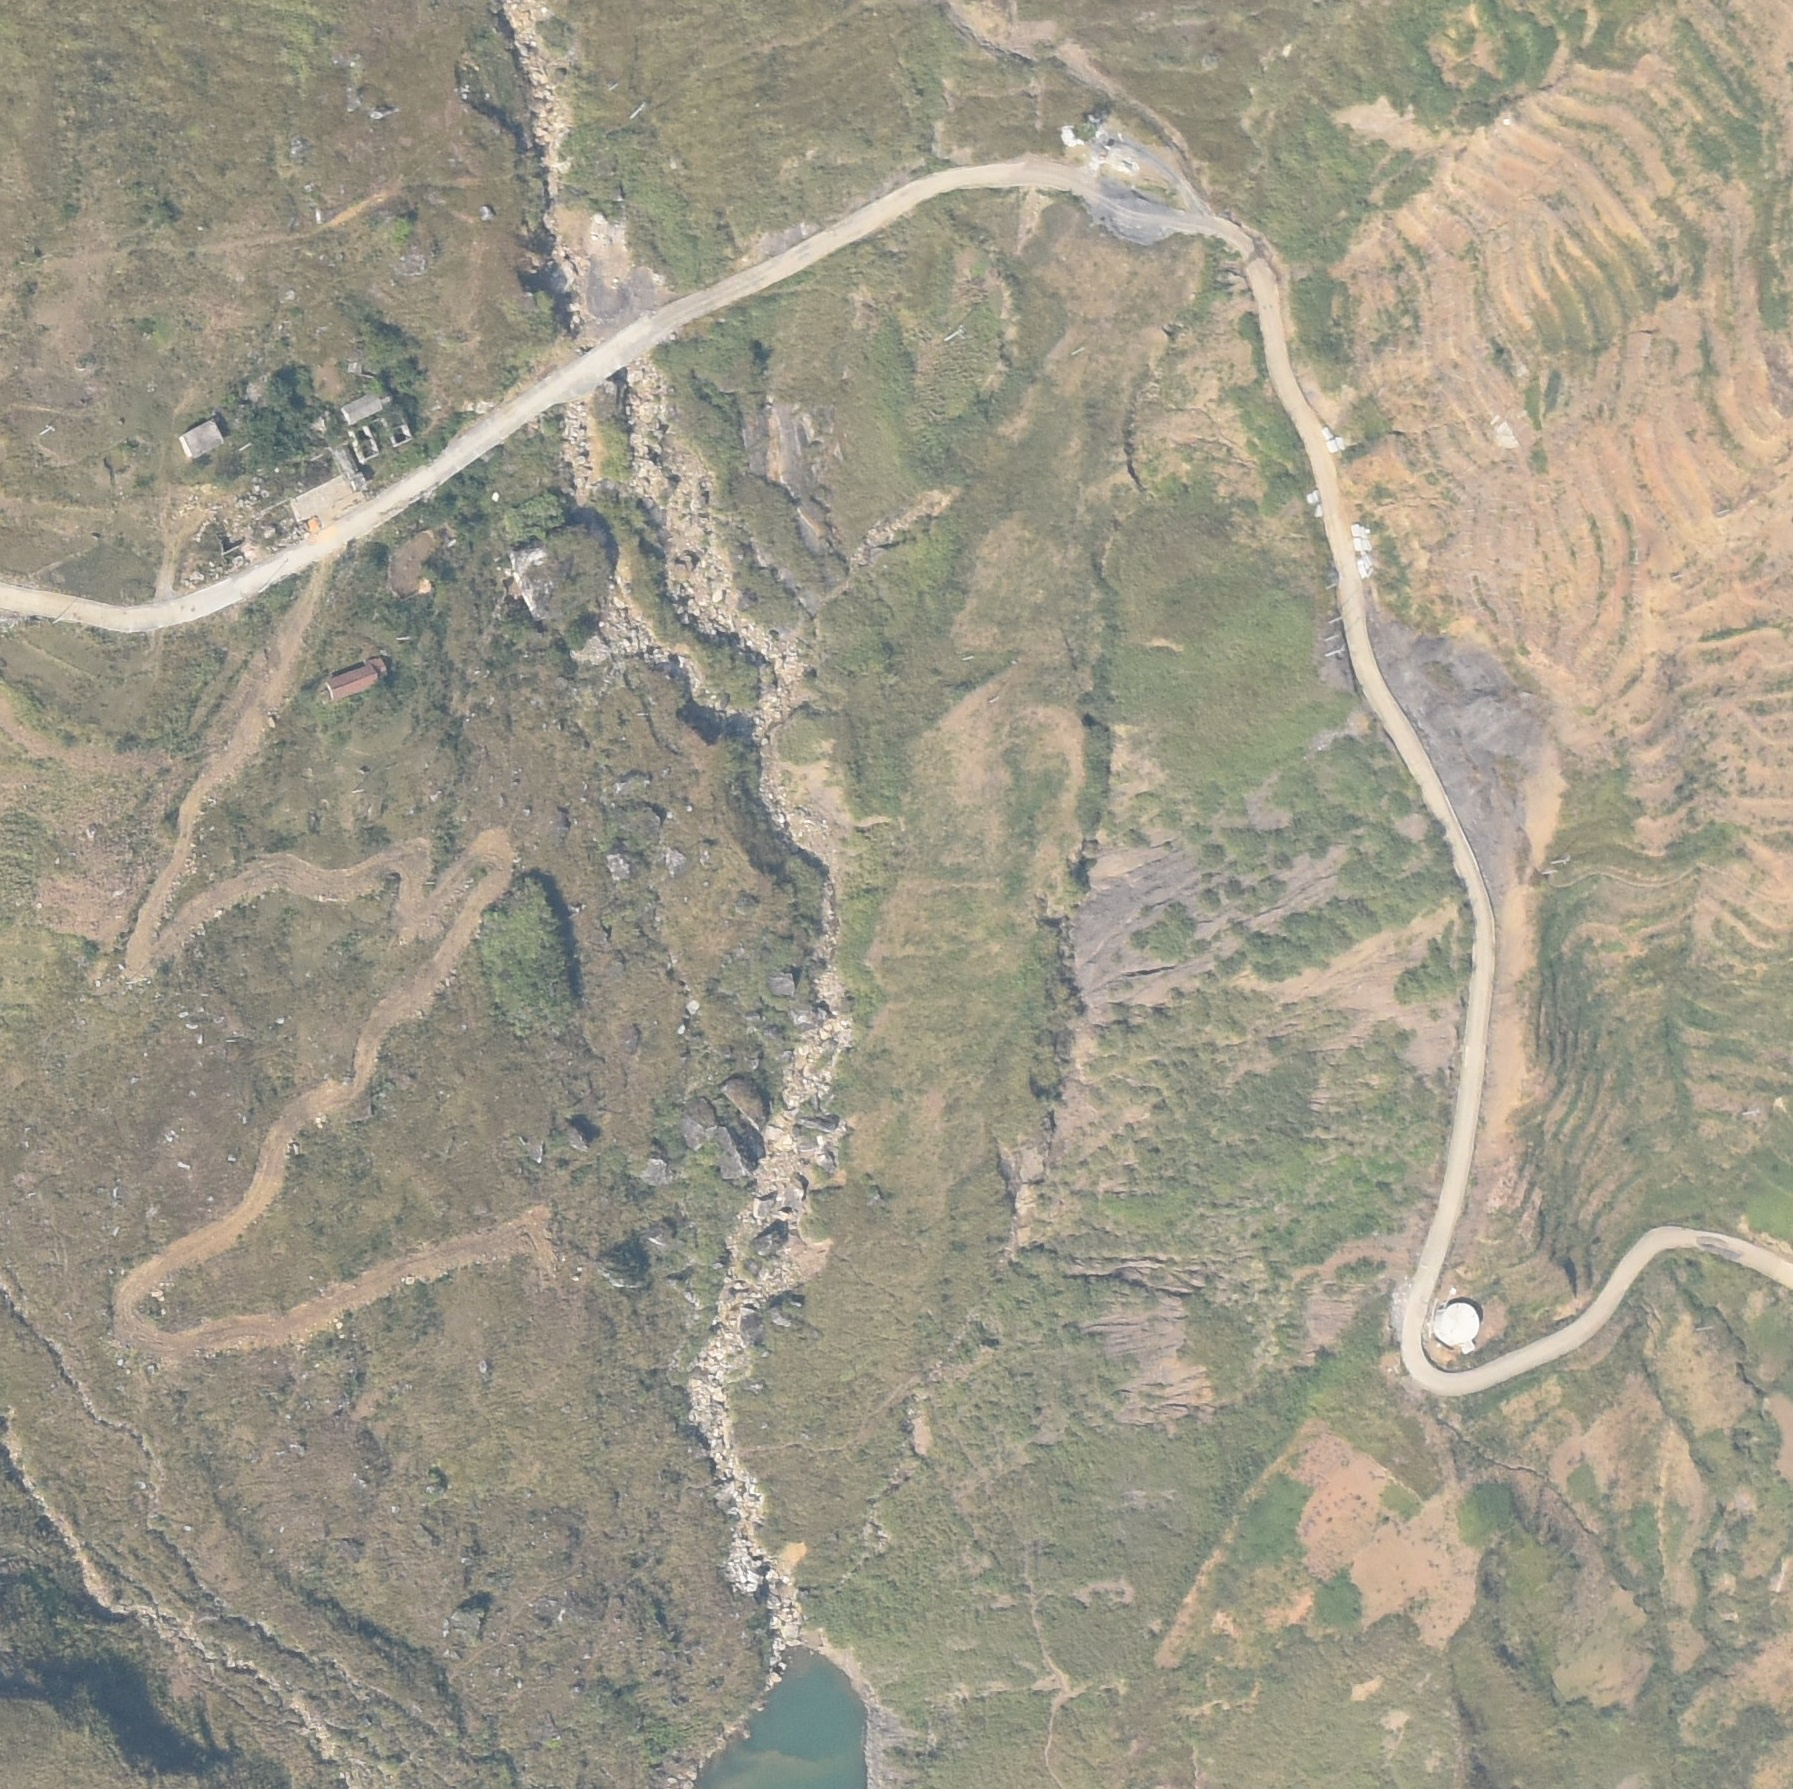building: (290, 472, 367, 521), (326, 655, 387, 701), (179, 421, 226, 460), (343, 390, 384, 423), (1350, 523, 1372, 552), (1323, 424, 1344, 452), (1306, 490, 1323, 518), (1357, 554, 1375, 578)
quarry: (1364, 613, 1546, 906)
well: (1434, 1302, 1483, 1352)
